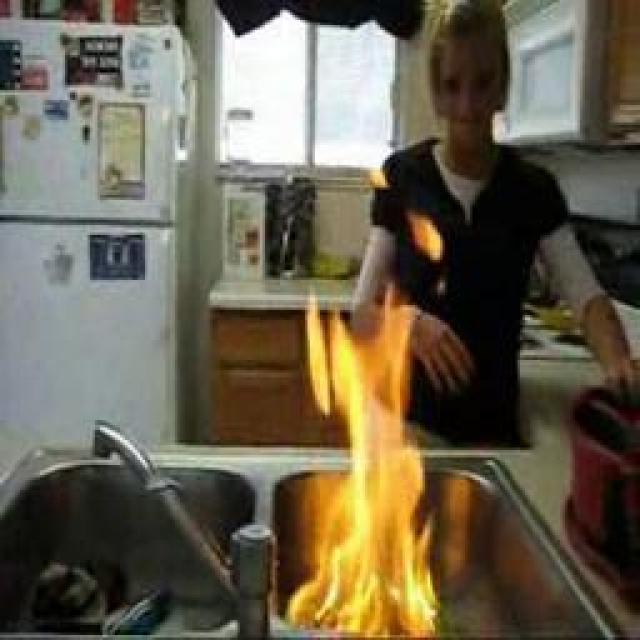Fire: (287, 295, 444, 640), (410, 210, 453, 266), (363, 177, 387, 190)
